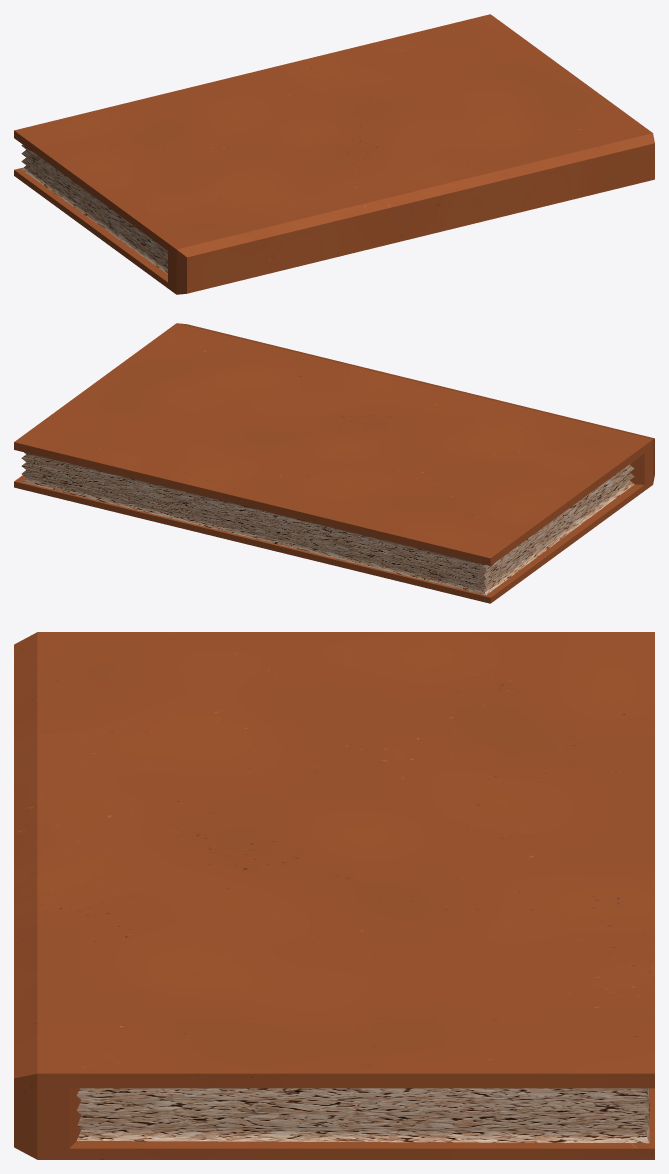
The model's file is Book2.fbx.
3 views of the same model, one above another, from view 1: azimuth 30°, elevation 25°; view 2: azimuth 150°, elevation 25°; view 3: azimuth 270°, elevation 25° (orthographic). The views are drawn at different scales.
Parts seen in each view (by area): view 1: Plane; view 2: Plane; view 3: Plane.
Part boxes in pixels (<box>): Plane: <box>14,14,654,294</box>; Plane: <box>14,323,654,603</box>; Plane: <box>14,632,654,1159</box>.
Size of the model in its own units: 181 by 16.5 by 111.
2 materials, 2 textured.
